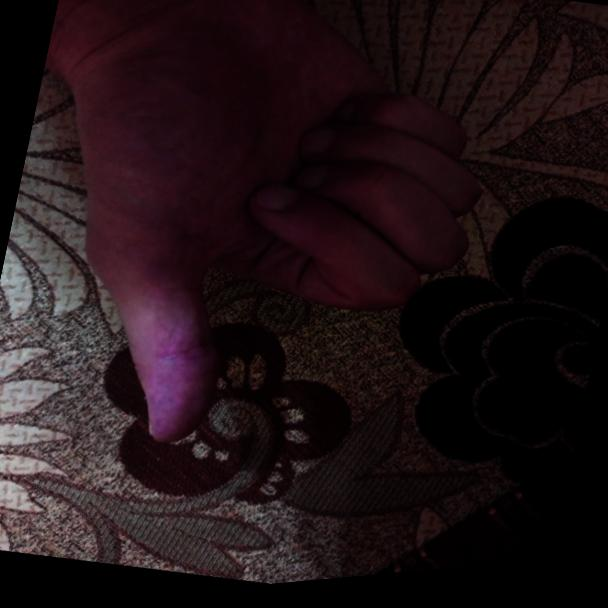five: (43, 0, 526, 516)
